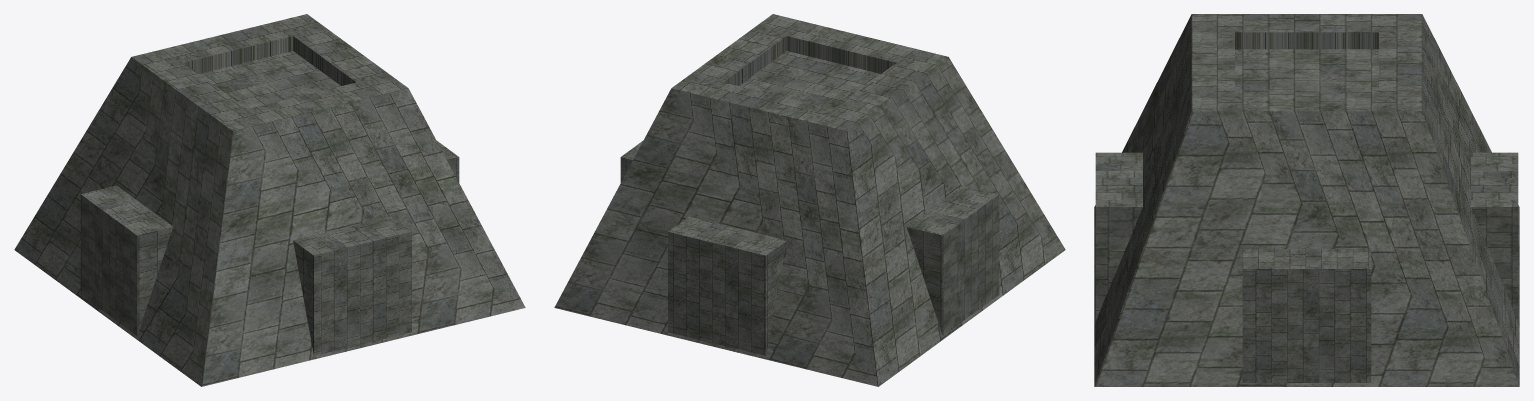
The picture shows the model from 3 angles, left to right: view 1: azimuth 30°, elevation 25°; view 2: azimuth 150°, elevation 25°; view 3: azimuth 270°, elevation 25°; orthographic projection. The views are drawn at different scales.
Parts seen in each view (by area): view 1: Cube, Cube.001, Cube.002; view 2: Cube, Cube.001, Cube.002; view 3: Cube, Cube.002, Cube.001.
Boxes of the visible parts, left/top/right/bottom form: Cube: left=14, top=14, right=525, bottom=386; Cube.001: left=293, top=216, right=411, bottom=355; Cube.002: left=80, top=140, right=459, bottom=335; Cube: left=554, top=14, right=1065, bottom=386; Cube.001: left=668, top=216, right=786, bottom=355; Cube.002: left=620, top=140, right=999, bottom=335; Cube: left=1094, top=14, right=1519, bottom=386; Cube.002: left=1242, top=249, right=1371, bottom=382; Cube.001: left=1095, top=152, right=1518, bottom=320.
Size of the model in its own units: 6.61 by 6.61 by 4.02.
Materials: 2 (2 with a texture image).
